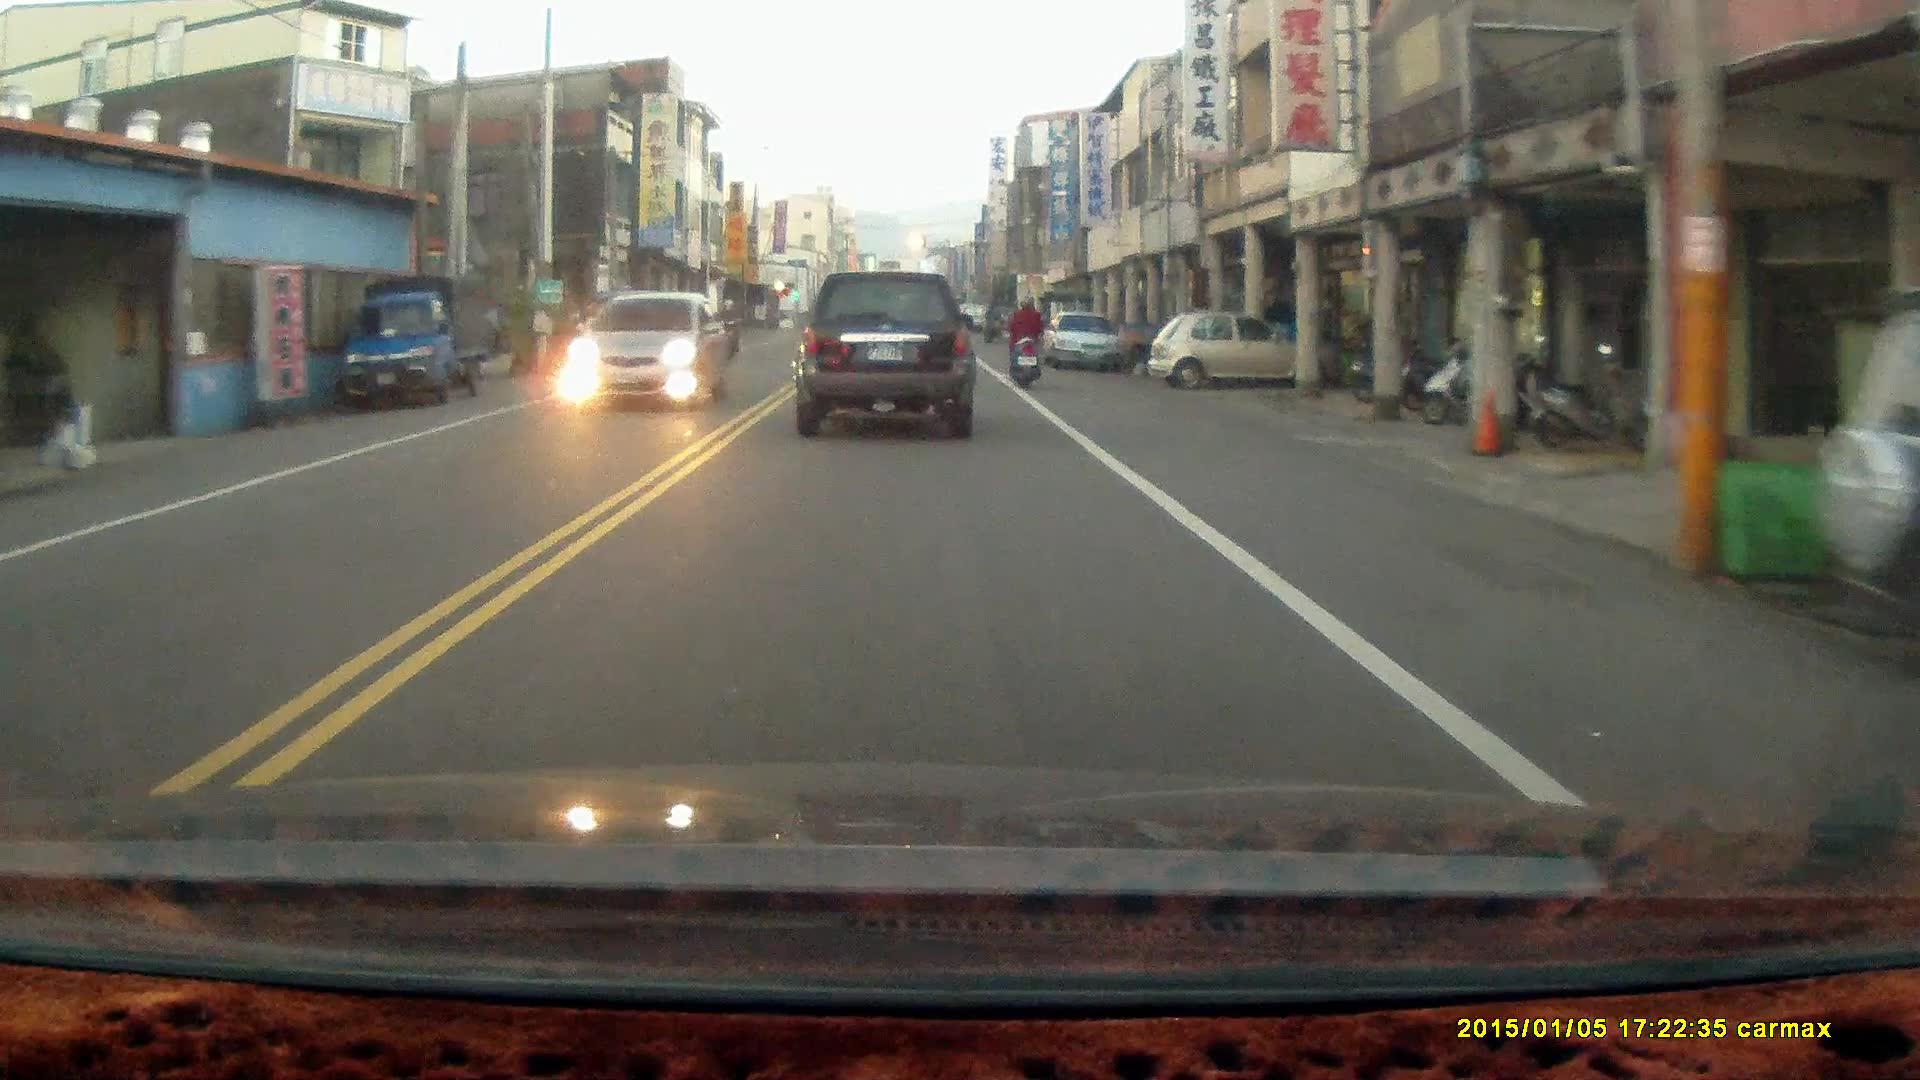rider: (1006, 291, 1043, 386)
vehicle: (1810, 277, 1919, 700), (791, 264, 977, 436), (344, 270, 500, 412), (569, 289, 734, 413), (1152, 306, 1319, 389), (1045, 310, 1130, 370)
